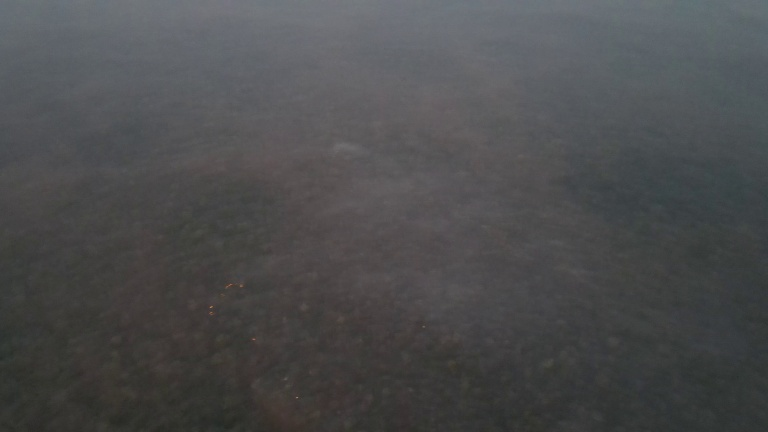fire: (198, 276, 250, 318), (417, 322, 430, 332), (247, 336, 261, 343), (293, 393, 300, 401)
smoke: (324, 137, 375, 166)
